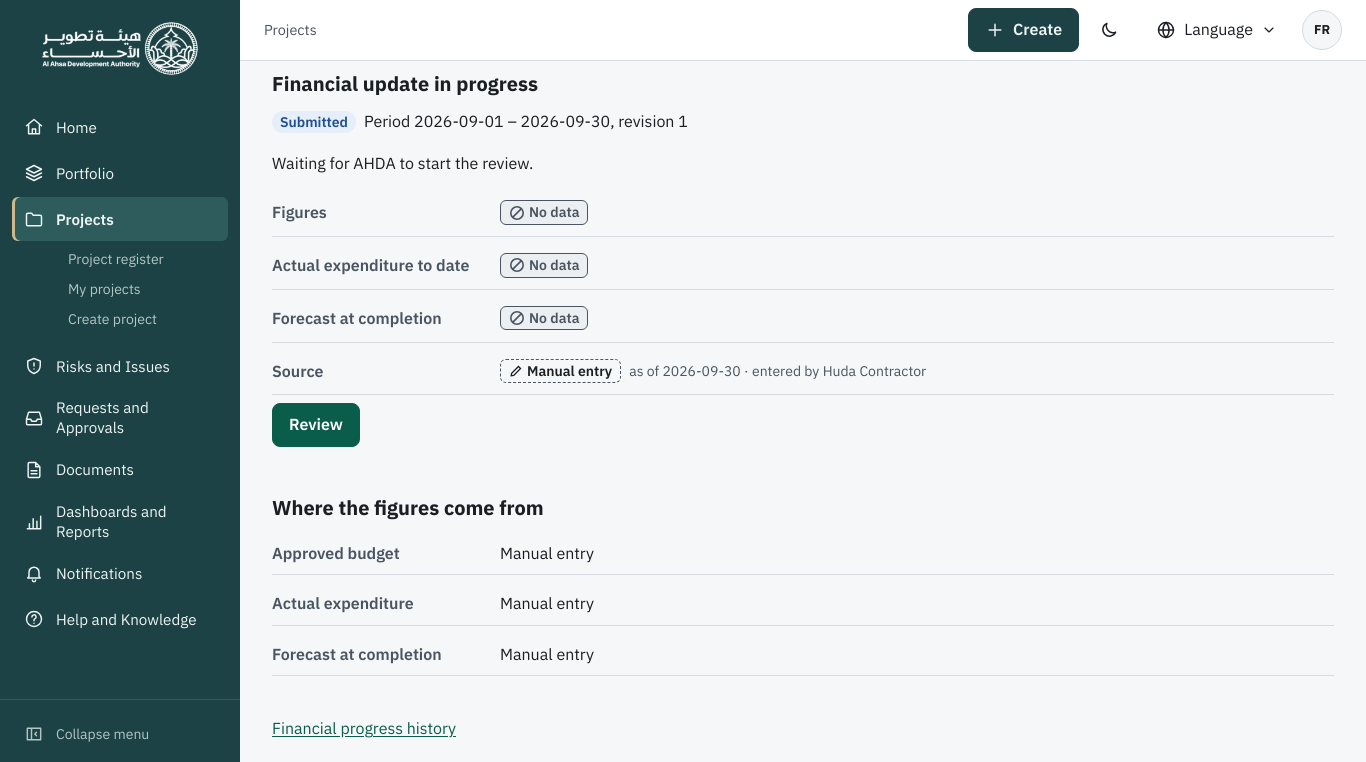
Test: MOD-023 Update Financial Progress › AHDA reviews a submitted update; its submitter is never offered the review
The width and height of the screenshot is (1366, 762).
(page scrolled)
Click the button "Review" at (316, 425), box [272,403,360,447]
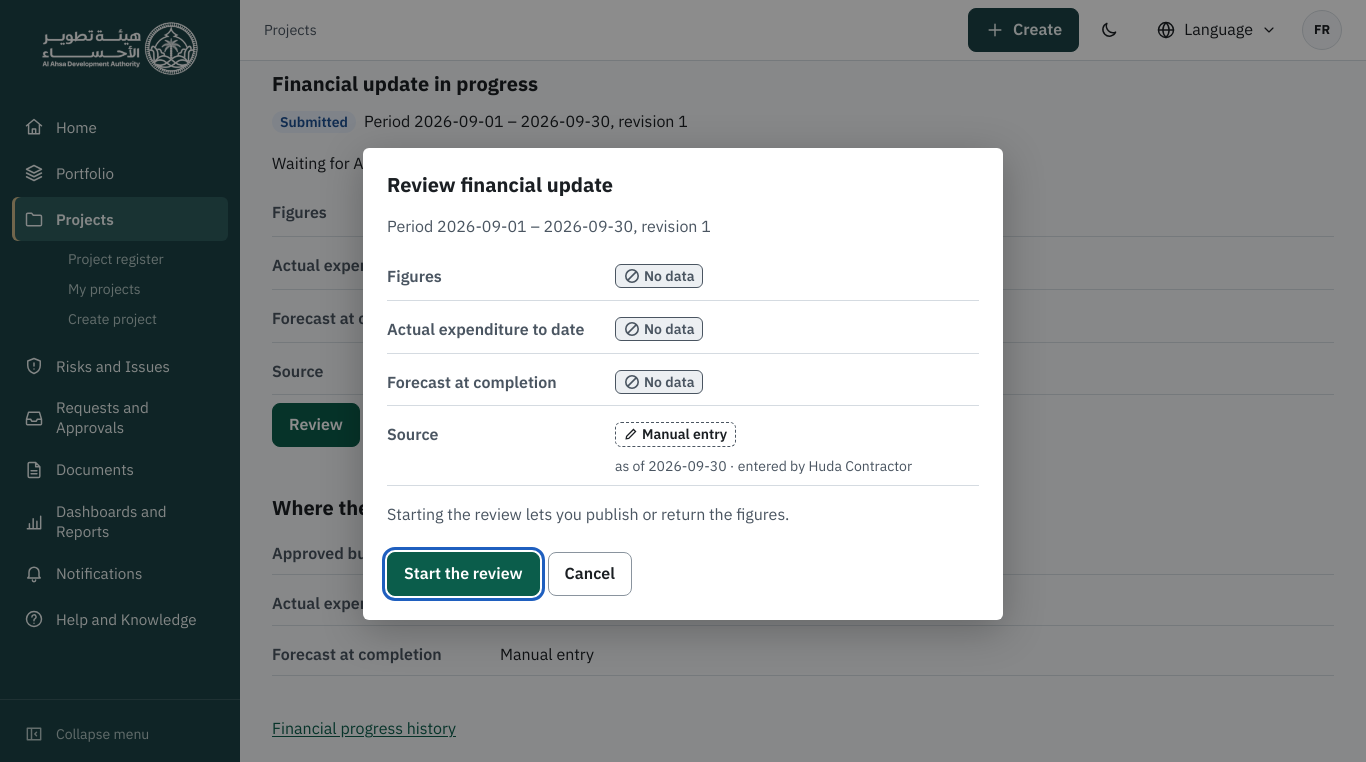
Check: the text "No data" is shown 3 times, box [615,264,704,288]; [615,317,704,341]; [615,370,704,394]
Click the button "Start the review" at (463, 574), box [387,552,540,596]
(page scrolled)
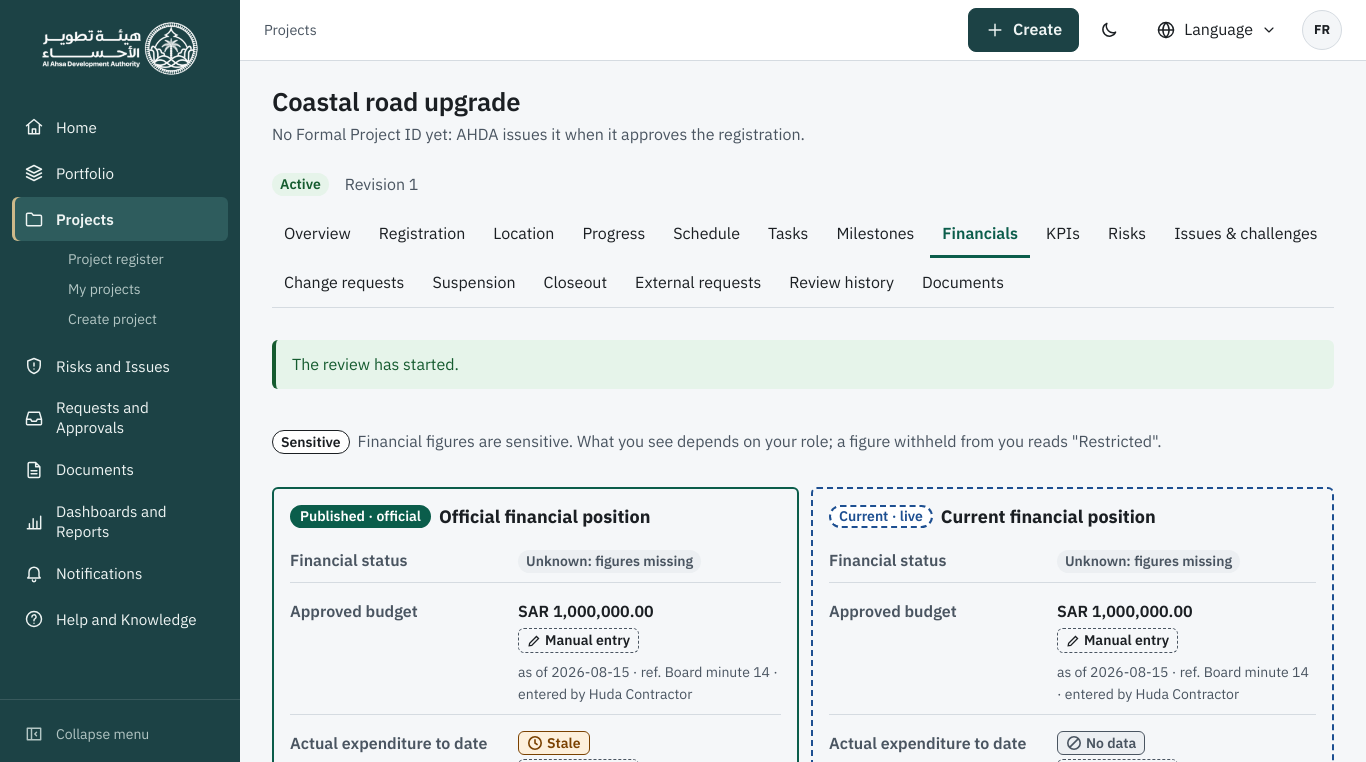
Check: the text "The review has started." is shown, box [272,340,1334,389]
